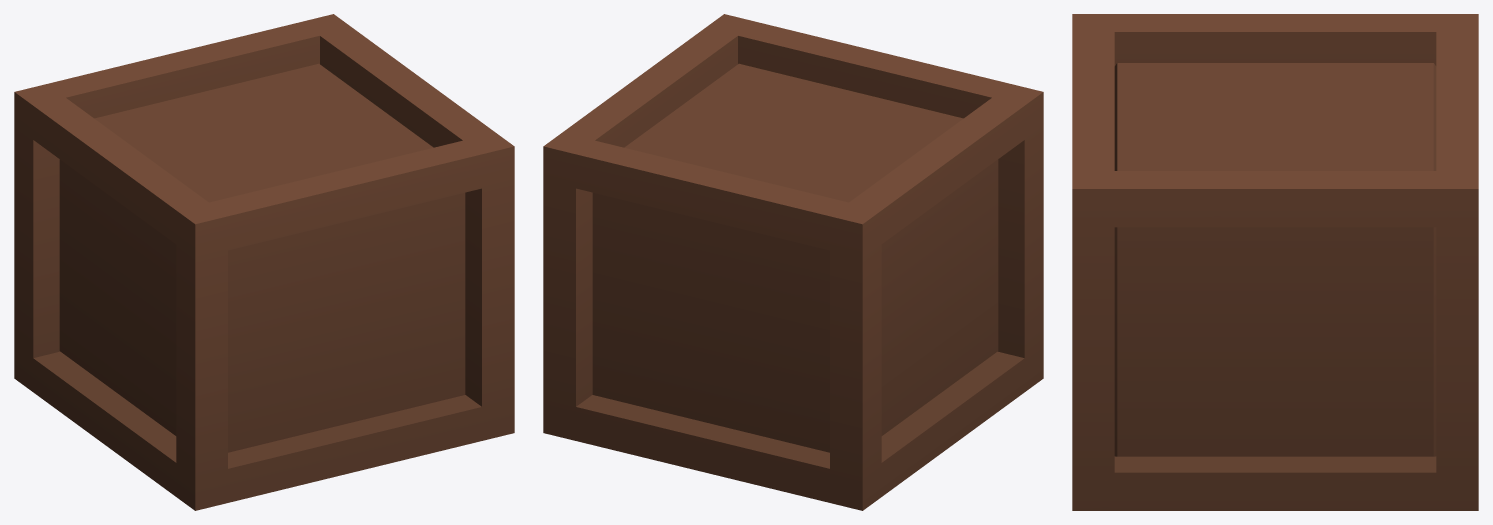
The model's file is Low Poly Wooden Crate - Storage Box.glb.
The picture shows the model from 3 angles, left to right: view 1: azimuth 30°, elevation 25°; view 2: azimuth 150°, elevation 25°; view 3: azimuth 270°, elevation 25°; orthographic projection. The views are drawn at different scales.
Visible parts, largest first — view 1: Cube; view 2: Cube; view 3: Cube.
Boxes of the visible parts, box(x1,y1,x2,y2) form: Cube: box(14, 14, 514, 510); Cube: box(543, 14, 1043, 510); Cube: box(1072, 14, 1478, 510).
Bounding box in the file's own units: 4.64 × 3.98 × 4.55.
Materials: 1 (1 with a texture image).
